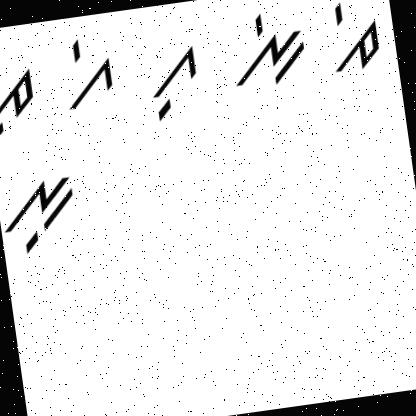ge: (54, 32, 122, 118)
gu: (140, 40, 206, 124)
nge: (216, 2, 313, 96)
ngu: (0, 168, 85, 261)
te: (321, 0, 384, 76)
tu: (0, 64, 43, 148)
